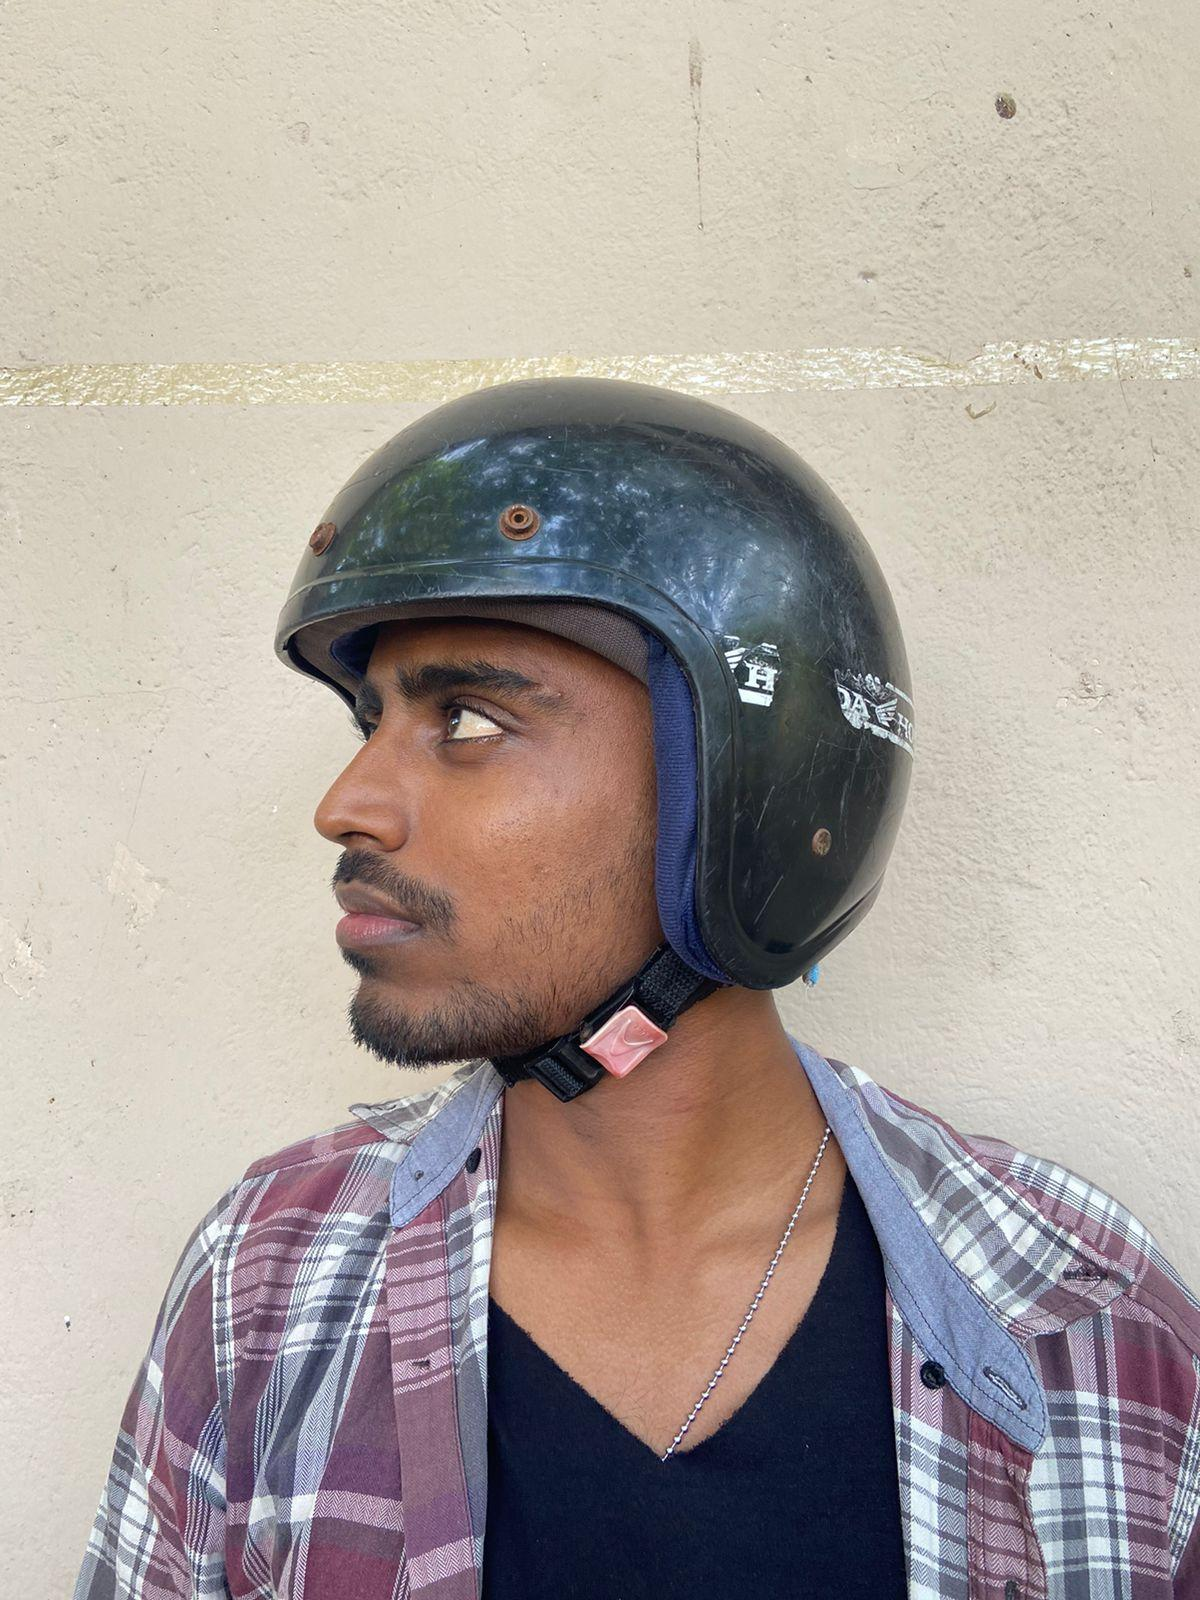helmet: (274, 375, 916, 994)
